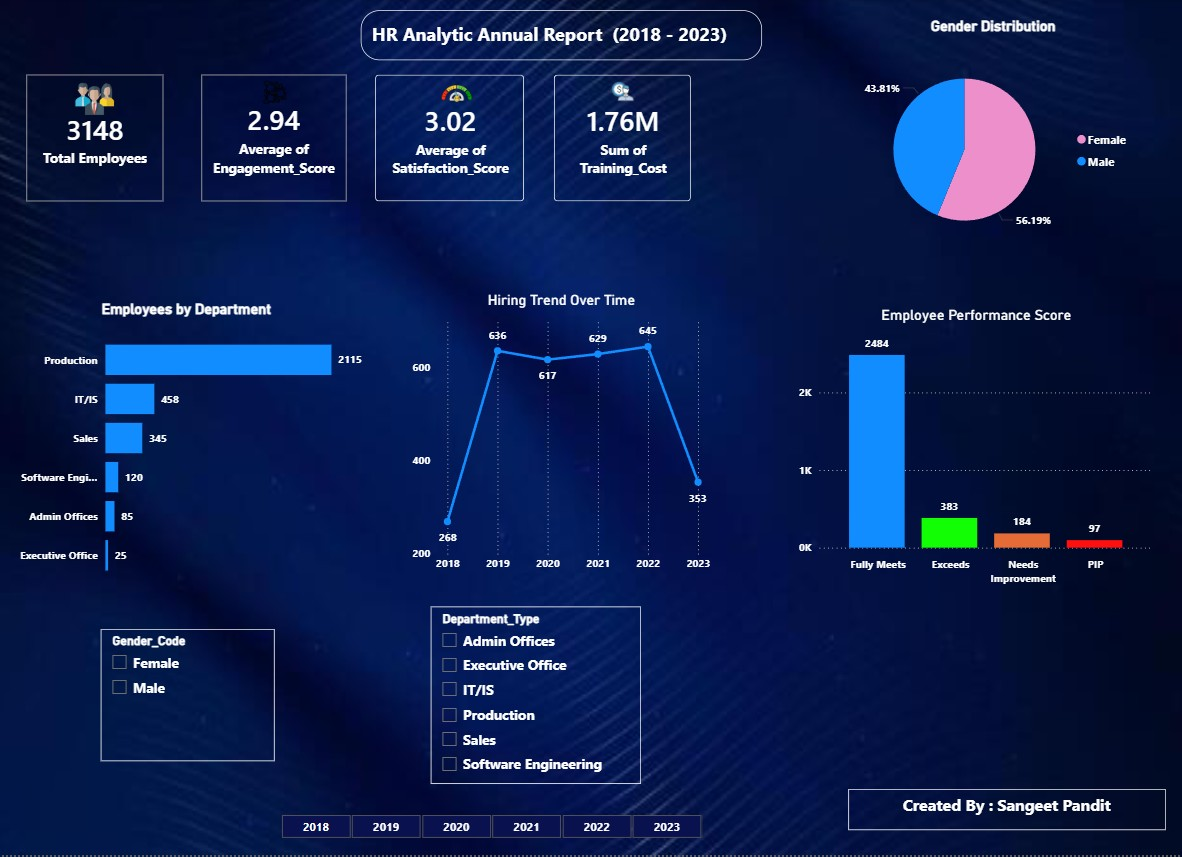

Layout of this report page (visuals, bound fields, positions):
{"tool":"powerbi","page":{"name":"Page 1","canvas":[1400,1000],"ordinal":0},"visuals":[{"type":"textbox","box":[431.4,12.9,468.8,58.5],"z":0},{"type":"clusteredBarChart","title":"Employees by Department","fields":{"Category":["HR Analytic.Department_Type"],"Y":["CountNonNull(HR Analytic.Employee_ID)"]},"box":[11.7,351.9,430.8,340.2],"z":1000},{"type":"clusteredColumnChart","title":"Employee Performance Score","fields":{"Category":["HR Analytic.Performance_Score"],"Y":["CountNonNull(HR Analytic.Employee_ID)"]},"box":[937.5,359.2,424.9,332.9],"z":2000},{"type":"pieChart","title":"Gender Distribution","fields":{"Category":["HR Analytic.Gender_Code"],"Y":["CountNonNull(HR Analytic.Employee_ID)"]},"box":[1000.3,21.9,338.8,287.7],"z":3000},{"type":"lineChart","title":"Hiring Trend Over Time","fields":{"Category":["HR Analytic.Start_Date.Variation.Date Hierarchy.Year","HR Analytic.Start_Date.Variation.Date Hierarchy.Quarter","HR Analytic.Start_Date.Variation.Date Hierarchy.Month","HR Analytic.Start_Date.Variation.Date Hierarchy.Day"],"Y":["CountNonNull(HR Analytic.Employee_ID)"]},"box":[486.3,341.7,357.8,335.9],"z":4000},{"type":"cardVisual","fields":{"Data":["CountNonNull(HR Analytic.Employee_ID)"]},"box":[23.4,71.3,194.1,182.4],"z":5000},{"type":"cardVisual","fields":{"Data":["Avg(HR Analytic.Engagement_Score)"]},"box":[228,71.3,203.4,182.4],"z":6000},{"type":"cardVisual","fields":{"Data":["Avg(HR Analytic.Satisfaction_Score)"]},"box":[431.4,71.3,208.1,182.4],"z":7000},{"type":"cardVisual","fields":{"Data":["Sum(HR Analytic. Training_Cost )"]},"box":[639.5,71.3,194.1,182.4],"z":8000},{"type":"image","box":[92.4,93.5,56.1,46.8],"z":9000},{"type":"image","box":[312.2,93.5,36.2,31.6],"z":10000},{"type":"image","box":[519.1,88.9,49.1,42.1],"z":11000},{"type":"image","box":[715.5,88.9,42.1,37.4],"z":12000},{"type":"slicer","fields":{"Values":["HR Analytic.Gender_Code"]},"box":[127,736,203,154.8],"z":13000},{"type":"slicer","fields":{"Values":["HR Analytic.Department_Type"]},"box":[512.6,709.7,245.3,207.4],"z":14000},{"type":"slicer","fields":{"Values":["HR Analytic.Start_Date.Variation.Date Hierarchy.Year"]},"box":[312.5,946.3,540.3,36.5],"z":15000},{"type":"textbox","box":[1000.3,922.9,370.9,48.2],"z":16000}]}

Visuals, with their boxes in screenshot pixels (x1, y1, x2, y2), scaled from the page's 1400x1000 canvas onto the 1182x857 screenshot:
textbox: BBox(364, 11, 760, 61)
"Employees by Department" clusteredBarChart: BBox(10, 302, 374, 593)
"Employee Performance Score" clusteredColumnChart: BBox(792, 308, 1150, 593)
"Gender Distribution" pieChart: BBox(845, 19, 1131, 265)
"Hiring Trend Over Time" lineChart: BBox(411, 293, 713, 581)
cardVisual - CountNonNull(HR Analytic.Employee_ID): BBox(20, 61, 184, 217)
cardVisual - Avg(HR Analytic.Engagement_Score): BBox(192, 61, 364, 217)
cardVisual - Avg(HR Analytic.Satisfaction_Score): BBox(364, 61, 540, 217)
cardVisual - Sum(HR Analytic. Training_Cost ): BBox(540, 61, 704, 217)
image: BBox(78, 80, 125, 120)
image: BBox(264, 80, 294, 107)
image: BBox(438, 76, 480, 112)
image: BBox(604, 76, 640, 108)
slicer - HR Analytic.Gender_Code: BBox(107, 631, 279, 763)
slicer - HR Analytic.Department_Type: BBox(433, 608, 640, 786)
slicer - HR Analytic.Start_Date.Variation.Date Hierarchy.Year: BBox(264, 811, 720, 842)
textbox: BBox(845, 791, 1158, 832)
